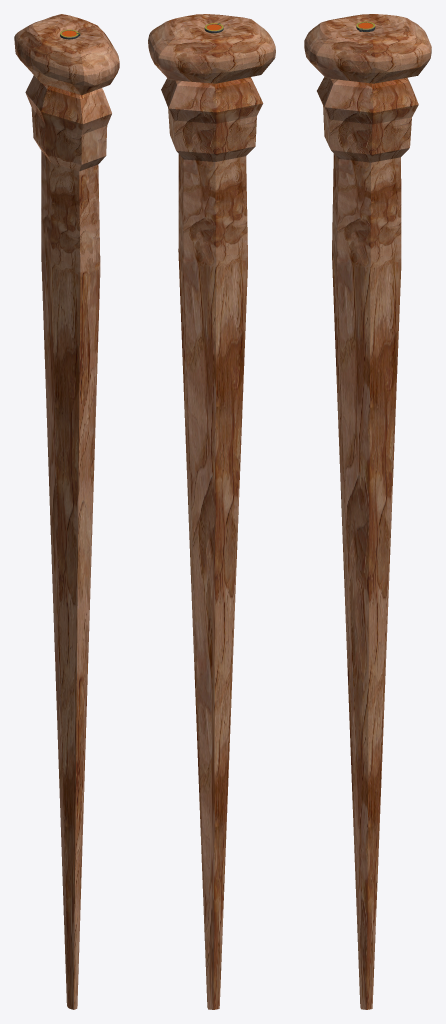
File: STG08_ONS_13.obj
The picture shows the model from 3 angles, left to right: view 1: azimuth 90°, elevation 25°; view 2: azimuth 150°, elevation 25°; view 3: azimuth 330°, elevation 25°; orthographic projection.
Parts seen in each view (by area): view 1: Object_2; view 2: Object_2; view 3: Object_2.
Part boxes in pixels (x1,y1,x2,y2): Object_2: (14,14,119,1009); Object_2: (148,14,275,1009); Object_2: (304,14,431,1009).
Bounding box in the file's own units: 4047 × 34424 × 3375.
6 materials, 6 textured.
